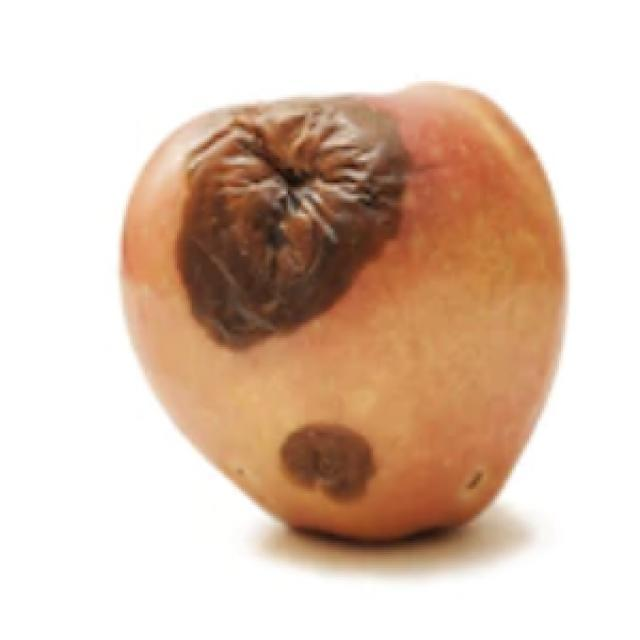Rotten: (168, 100, 572, 558)
